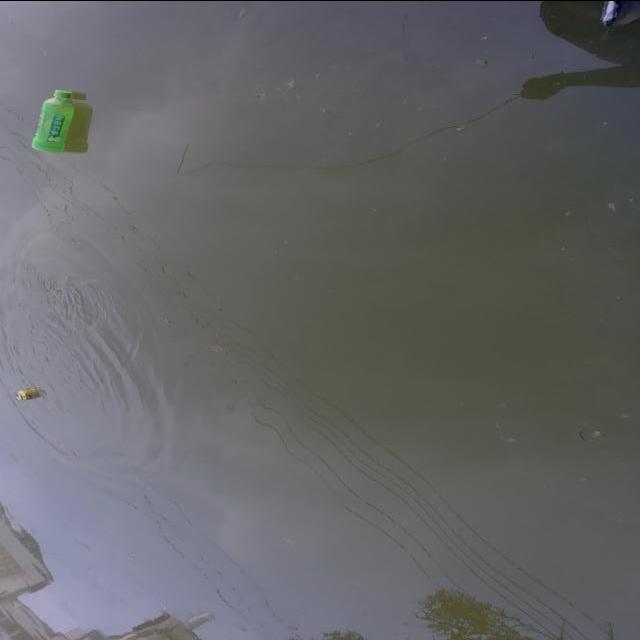bottle: (16, 80, 88, 160)
